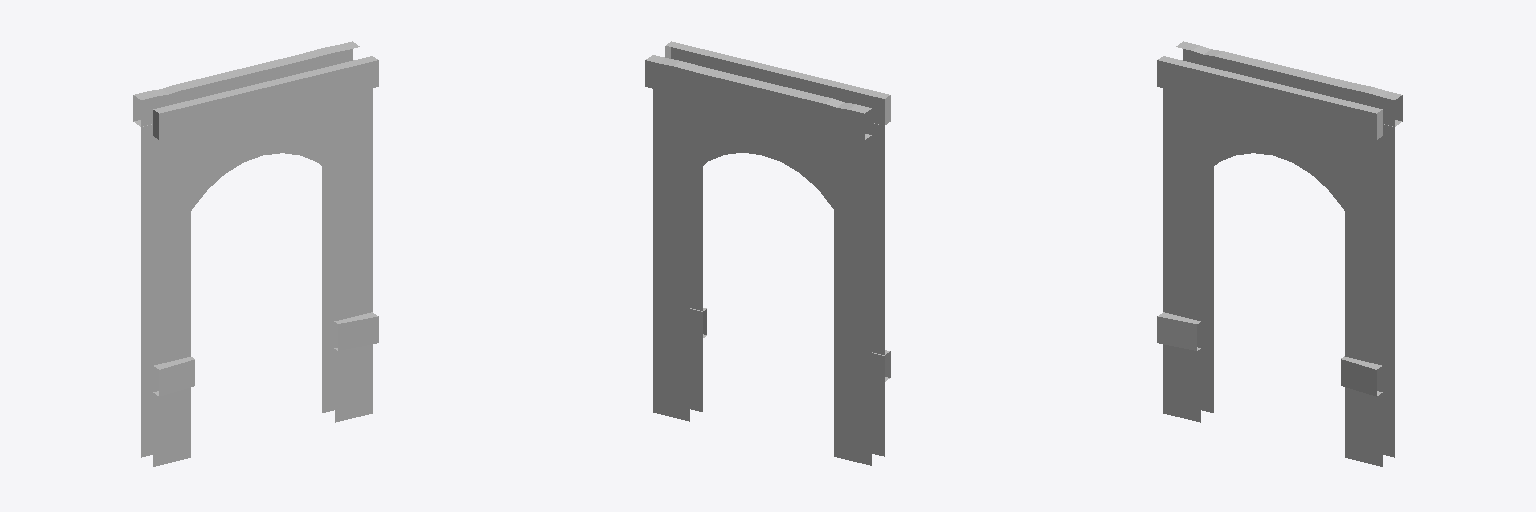
The model's file is Wall_Plaster_Door_Round.obj.
3 renders of one model, left to right at view 1: azimuth 30°, elevation 25°; view 2: azimuth 150°, elevation 25°; view 3: azimuth 330°, elevation 25°, orthographic.
Parts seen in each view (by area): view 1: Wall_Plaster_Door_Round; view 2: Wall_Plaster_Door_Round; view 3: Wall_Plaster_Door_Round.
Boxes of the visible parts, x1=… form: Wall_Plaster_Door_Round: x1=133, y1=41, x2=378, y2=466; Wall_Plaster_Door_Round: x1=645, y1=41, x2=890, y2=465; Wall_Plaster_Door_Round: x1=1157, y1=41, x2=1402, y2=466.
Size of the model in its own units: 2 by 3.12 by 0.4065.